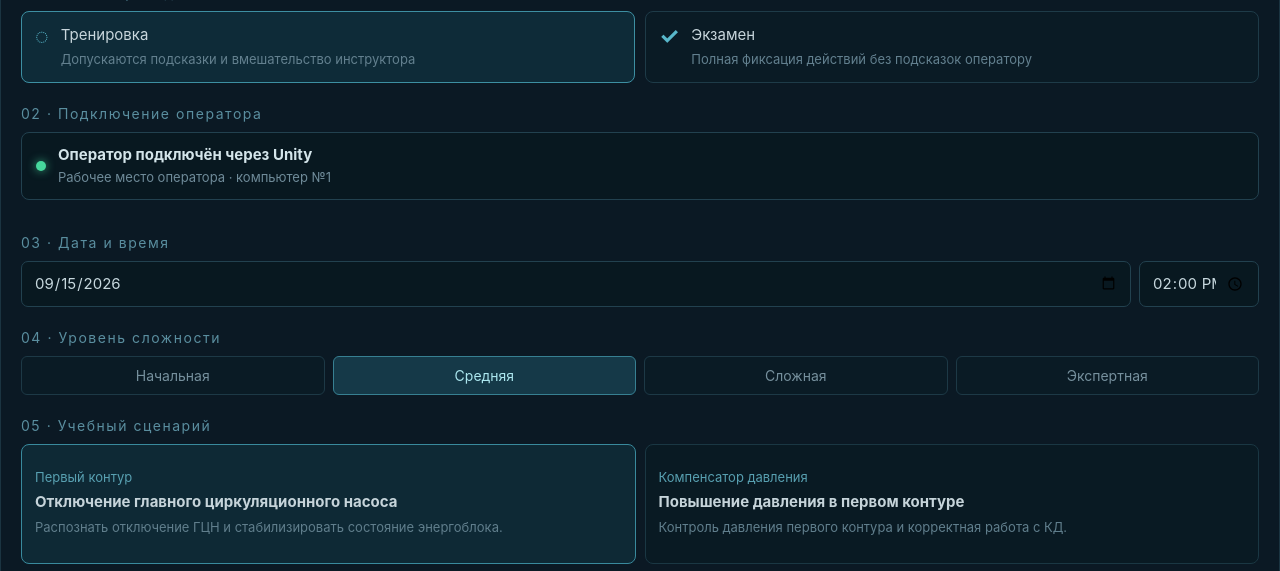
Test: CreateTrainingPage component › switches mode between training and exam
The image size is (1280, 571).
What coordinates should you click on to do the following:
click the button "✓ Экзамен Полная фиксация действий без подсказок оператору"
I would click on:
 (723, 34)
Its box is [645,11,1259,83].
(page scrolled)
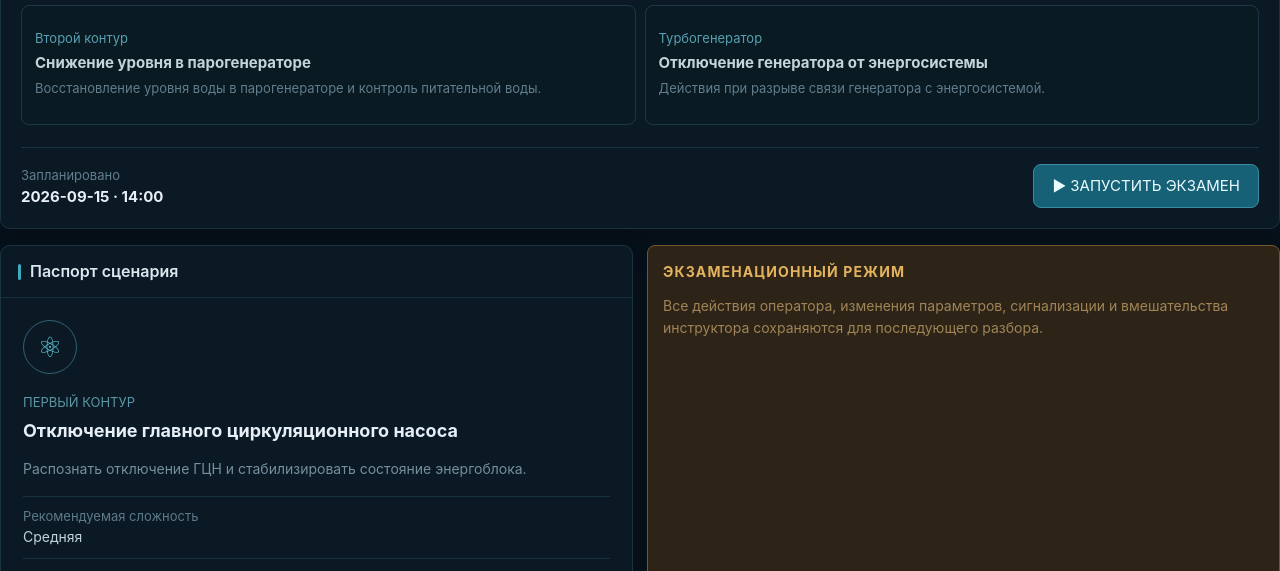
Expected: the text "ЭКЗАМЕНАЦИОННЫЙ РЕЖИМ" is shown, [663,263,905,280]
